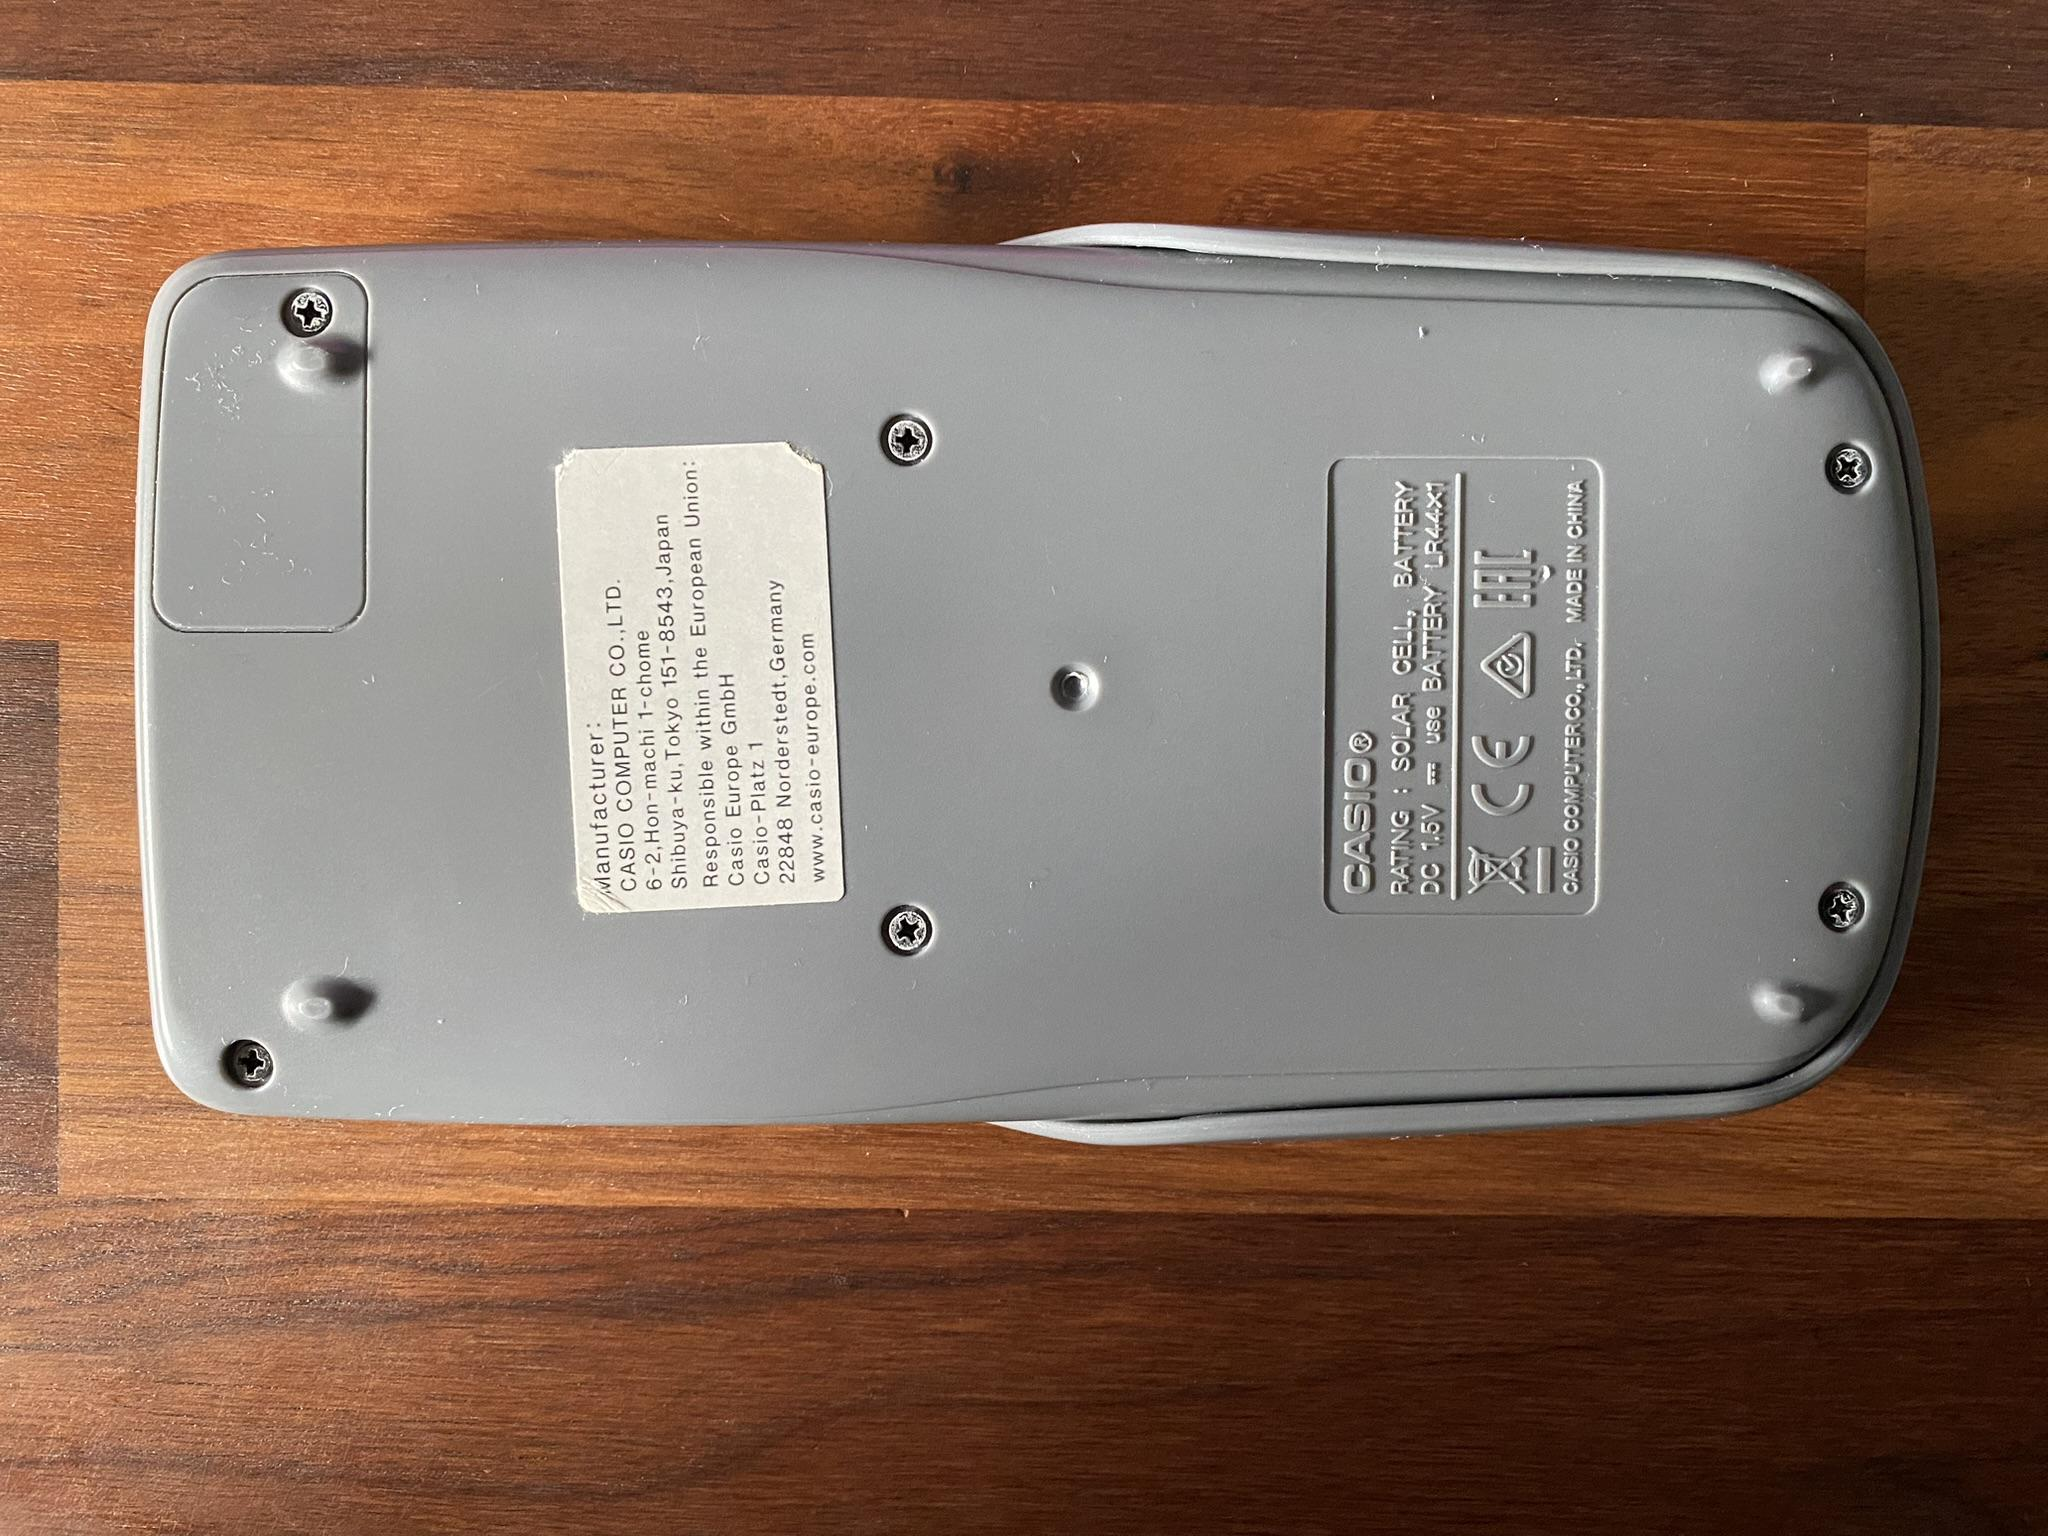PH: (284, 289, 332, 336), (882, 908, 930, 954), (231, 1037, 271, 1089), (887, 418, 929, 465), (1829, 444, 1869, 492), (1819, 889, 1863, 931)
